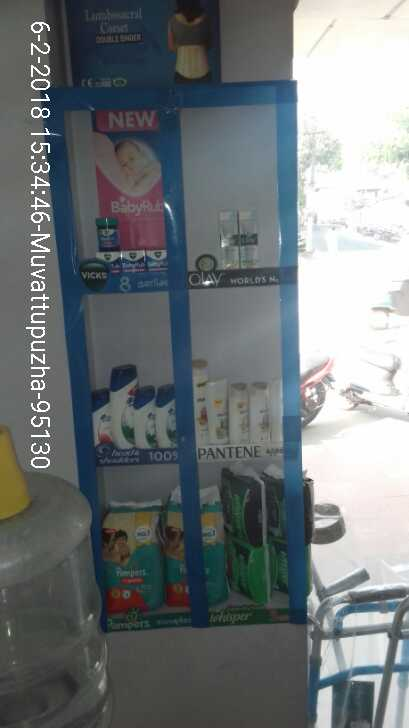vicks: (98, 211, 162, 275)
